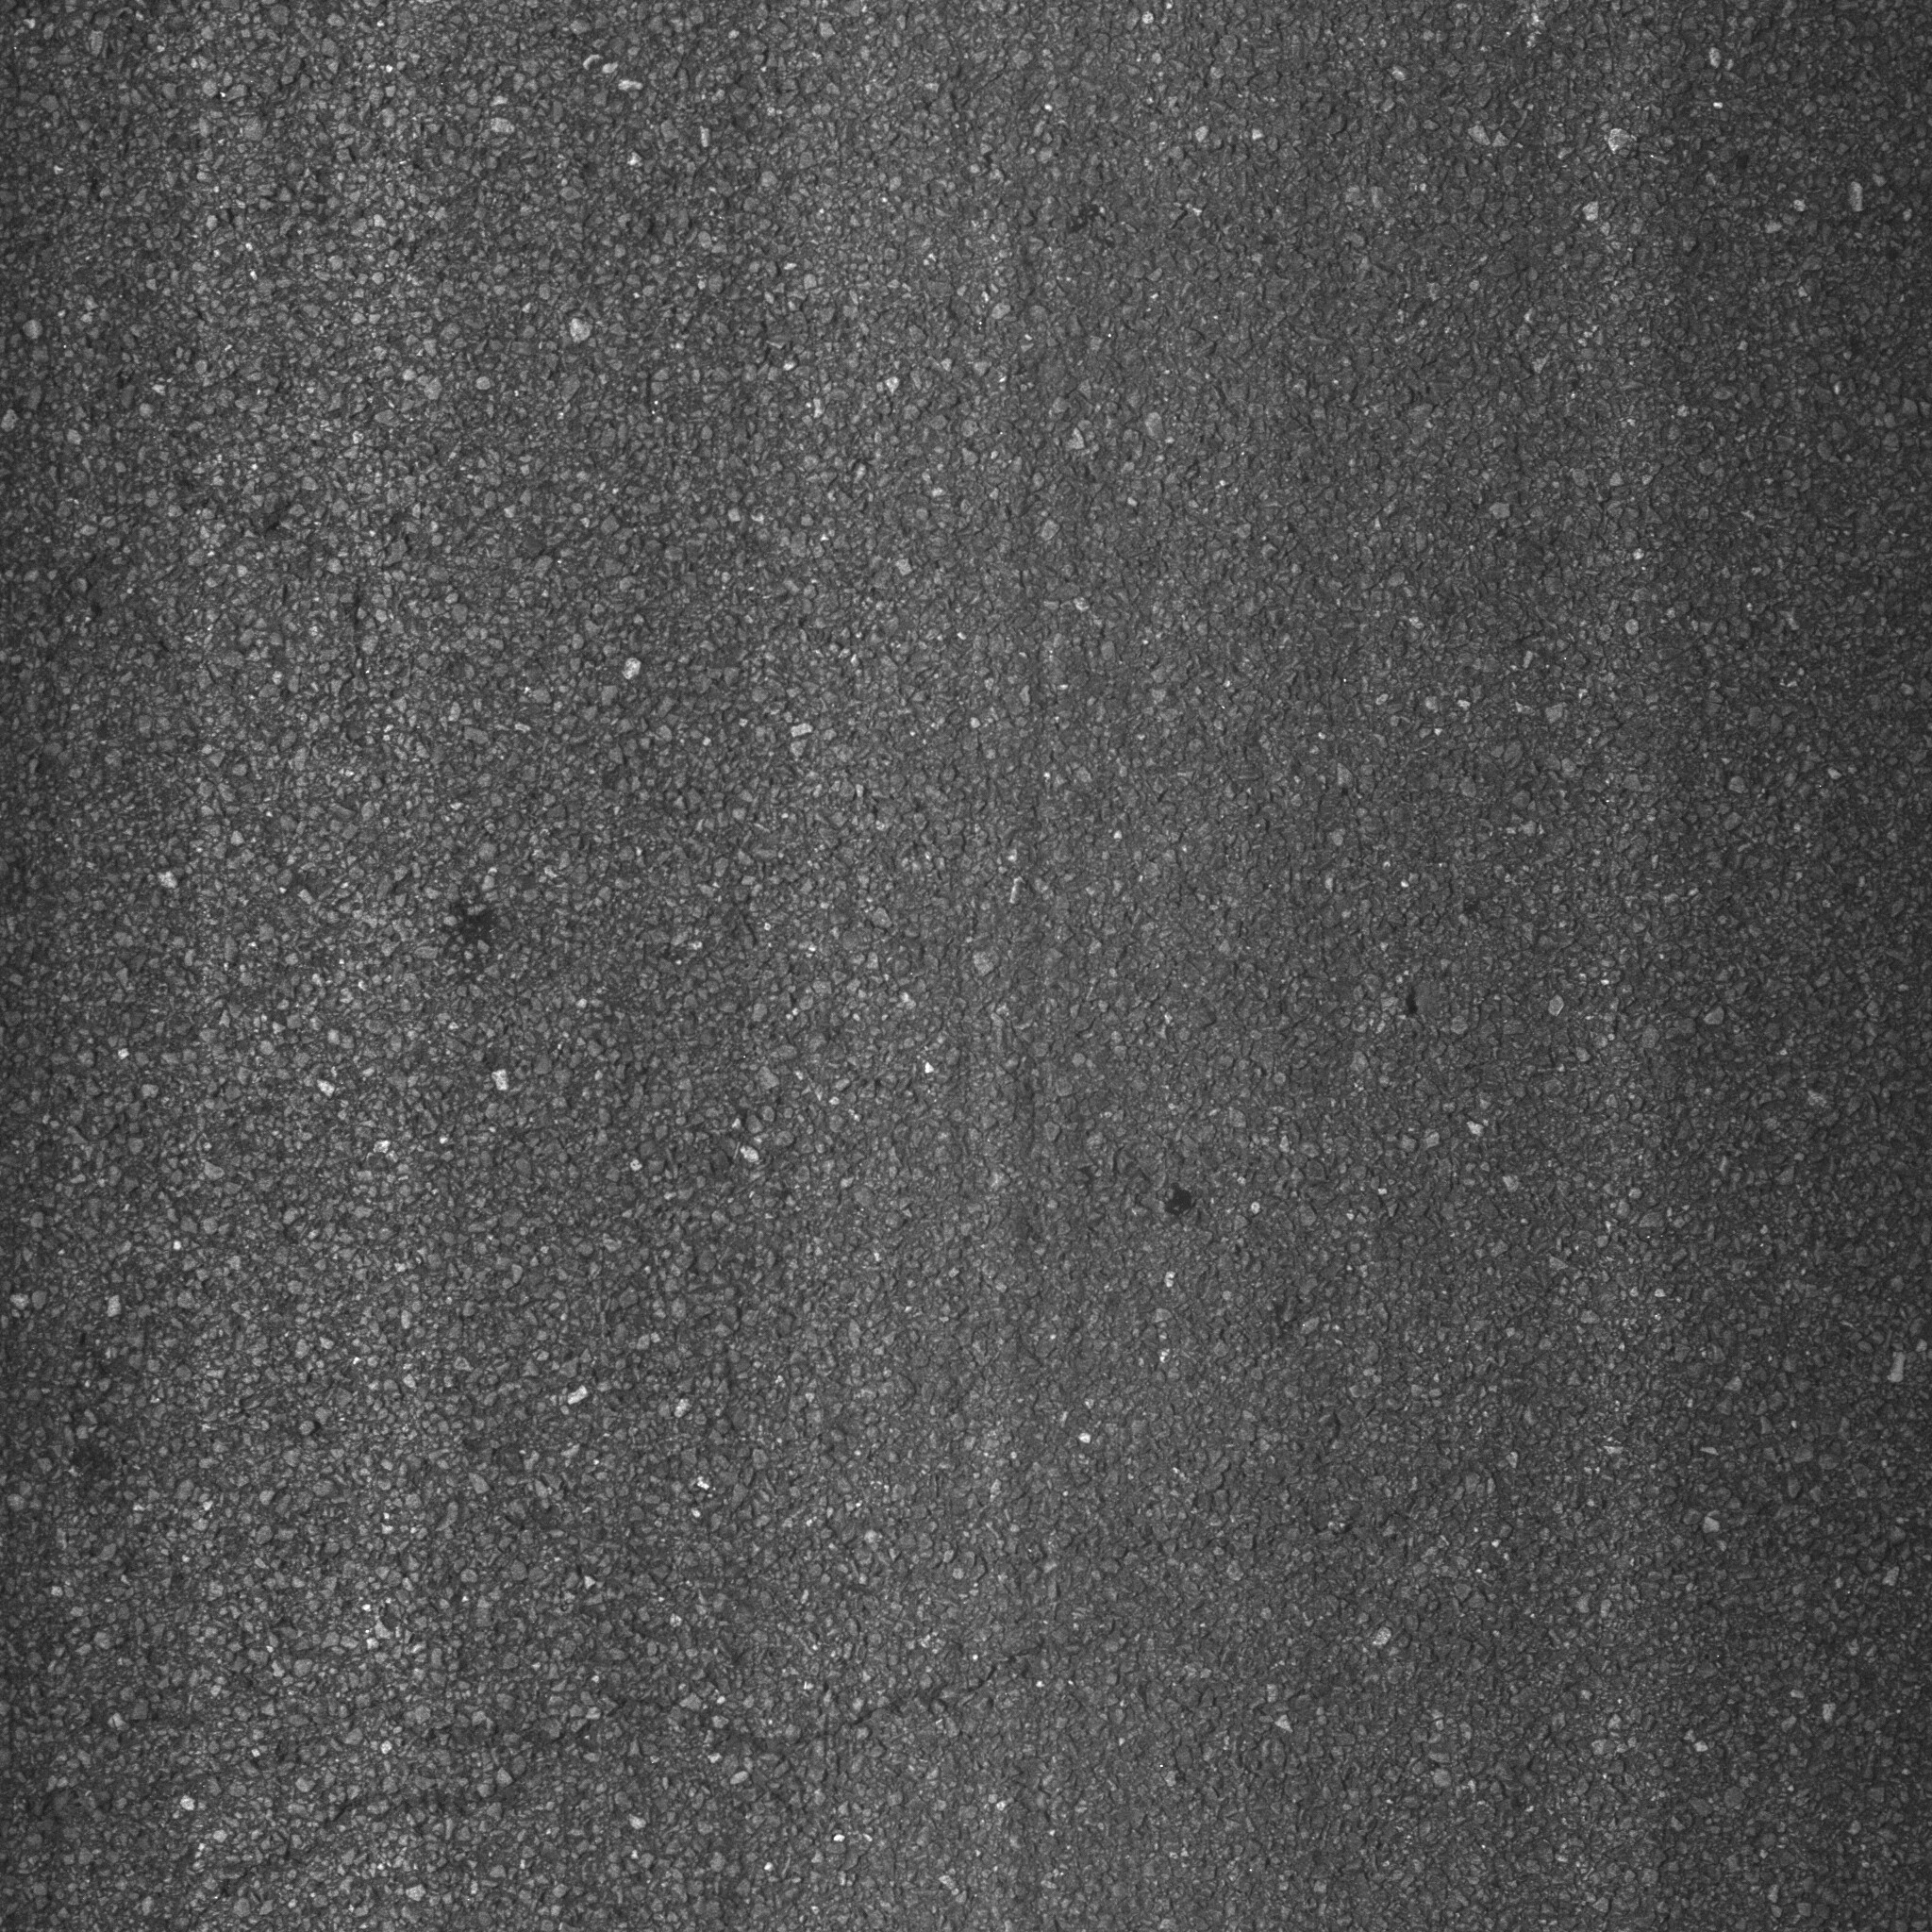transverse: (76, 1652, 1143, 1900)
